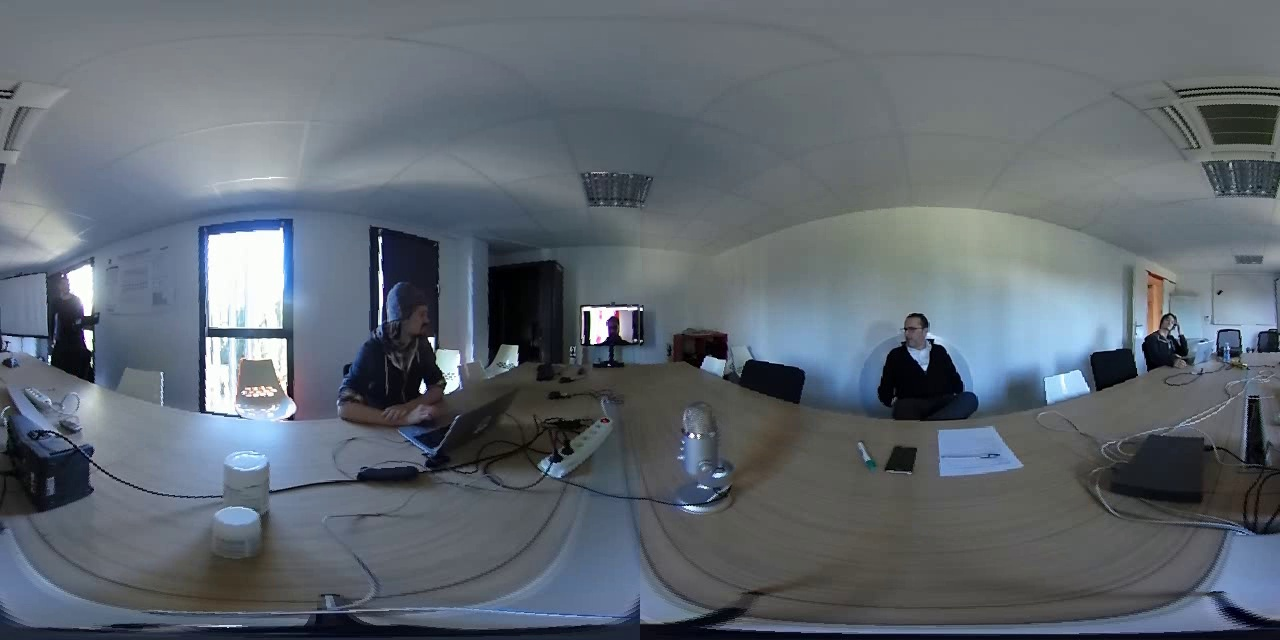person: (335, 261, 462, 416), (862, 304, 980, 419), (23, 267, 104, 377), (1138, 297, 1189, 368), (583, 310, 646, 349)
